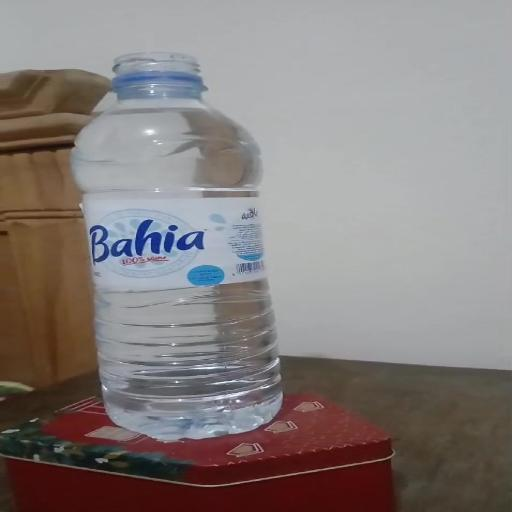bouteille non conformite: (98, 35, 290, 432)
